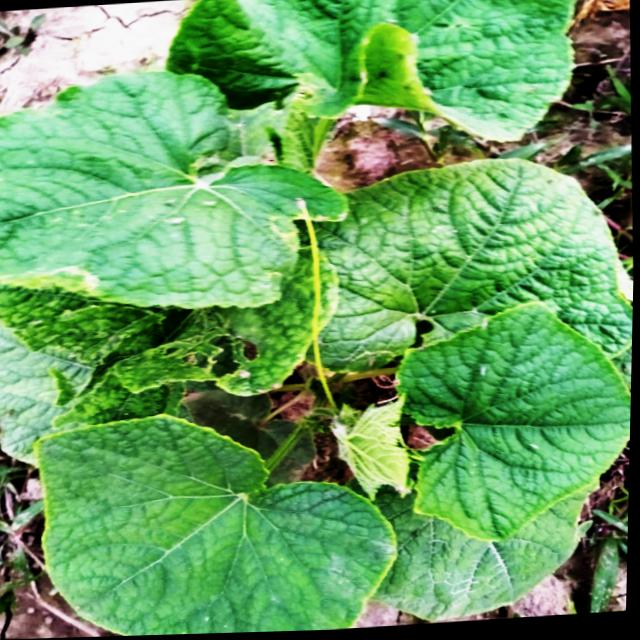Fresh-Leaf: (33, 413, 398, 636), (394, 297, 631, 540)
